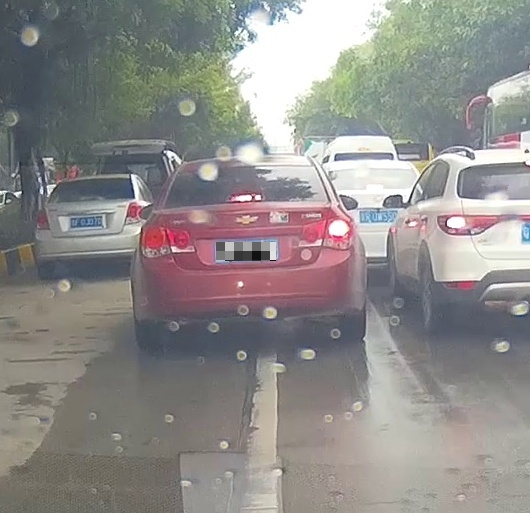L_light: (140, 222, 197, 259)
R_light: (299, 214, 354, 250)
T_light: (228, 195, 262, 201)
day-brake: (137, 158, 358, 348)
plate_1: (216, 242, 276, 261)
